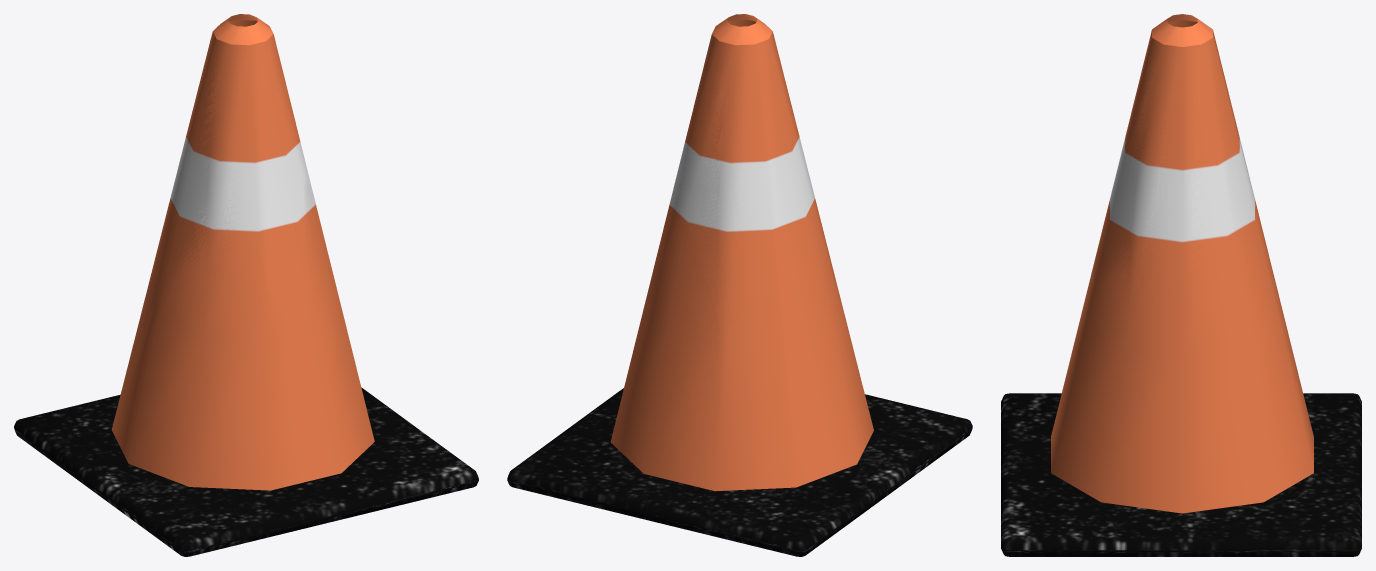
File: SafetyCone01.dae
3 renders of one model, left to right at view 1: azimuth 30°, elevation 25°; view 2: azimuth 150°, elevation 25°; view 3: azimuth 270°, elevation 25°, orthographic. The views are drawn at different scales.
Parts seen in each view (by area): view 1: SafetyCone200, SafetyCone100; view 2: SafetyCone200, SafetyCone100; view 3: SafetyCone200, SafetyCone100.
Part boxes in pixels (x1,y1,x2,y2): SafetyCone200: (14, 14, 478, 556); SafetyCone100: (112, 20, 374, 550); SafetyCone200: (507, 14, 972, 556); SafetyCone100: (611, 20, 873, 549); SafetyCone200: (1001, 14, 1361, 556); SafetyCone100: (1005, 20, 1357, 549).
Size of what is drawn, in the model's own units: 1.64 by 1.64 by 2.32.
